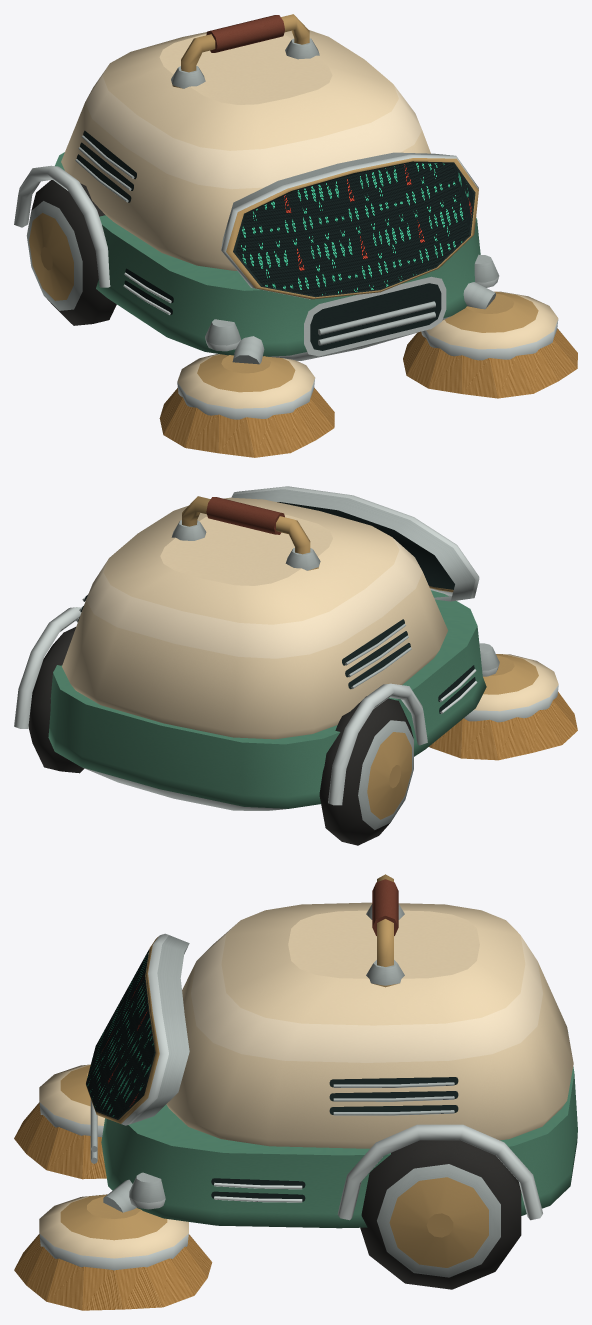
File: Sweeper-L1.fbx
3 views of the same model, one above another, from view 1: azimuth 30°, elevation 25°; view 2: azimuth 150°, elevation 25°; view 3: azimuth 270°, elevation 25° (orthographic). The views are drawn at different scales.
Parts seen in each view (by area): view 1: Sweeper_Body, Sweeper_Head_Face, Sweeper_BrushL, Sweeper_BrushR, Sweeper_WheelL; view 2: Sweeper_Body, Sweeper_BrushL, Sweeper_WheelL, Sweeper_WheelR; view 3: Sweeper_Body, Sweeper_WheelR, Sweeper_BrushR, Sweeper_BrushL, Sweeper_Head_Face.
Part boxes in pixels (x1,y1,x2,y2): Sweeper_Body: [14, 14, 499, 364]; Sweeper_Head_Face: [235, 162, 473, 295]; Sweeper_BrushL: [159, 354, 334, 457]; Sweeper_BrushR: [403, 291, 577, 398]; Sweeper_WheelL: [26, 180, 116, 325]; Sweeper_Body: [14, 486, 499, 810]; Sweeper_BrushL: [429, 654, 577, 760]; Sweeper_WheelL: [319, 696, 413, 845]; Sweeper_WheelR: [28, 627, 84, 773]; Sweeper_Body: [86, 874, 577, 1228]; Sweeper_WheelR: [360, 1140, 521, 1289]; Sweeper_BrushR: [14, 1194, 212, 1310]; Sweeper_BrushL: [14, 1064, 106, 1179]; Sweeper_Head_Face: [86, 949, 154, 1118].
Size of the model in its own units: 0.7125 by 0.4813 by 0.794.
Materials: 2 (2 with a texture image).
